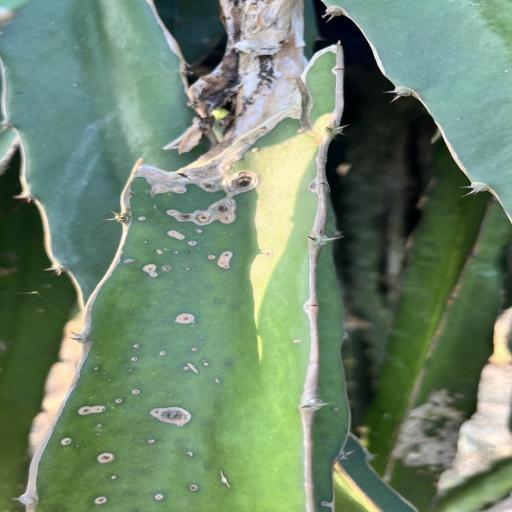stemcanker: (54, 435, 213, 510), (91, 338, 223, 404), (150, 225, 215, 268), (69, 401, 108, 430), (120, 252, 161, 278), (283, 120, 319, 148), (89, 365, 141, 383), (150, 344, 204, 358), (252, 245, 278, 267), (154, 248, 193, 261), (214, 249, 236, 270), (123, 341, 141, 364), (284, 335, 310, 349), (256, 247, 279, 260), (245, 145, 266, 158), (146, 200, 163, 212), (129, 214, 149, 224), (118, 255, 136, 266), (123, 387, 145, 396), (95, 423, 108, 437), (198, 281, 215, 291), (135, 214, 150, 224), (184, 450, 196, 462), (318, 497, 330, 509), (179, 362, 190, 374), (332, 405, 344, 416), (104, 474, 120, 482), (144, 439, 158, 448), (224, 358, 236, 367), (182, 265, 193, 274), (193, 227, 206, 234), (196, 333, 206, 341), (202, 360, 211, 368), (140, 240, 150, 247), (114, 398, 125, 404), (72, 445, 84, 450), (151, 206, 161, 212)
